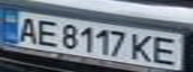1: (75, 25, 96, 53), (93, 26, 112, 56)
7: (109, 28, 130, 58)
8: (57, 21, 81, 51)
A: (12, 14, 42, 44)
E: (148, 34, 187, 65), (33, 17, 63, 47)
K: (127, 32, 157, 63)
